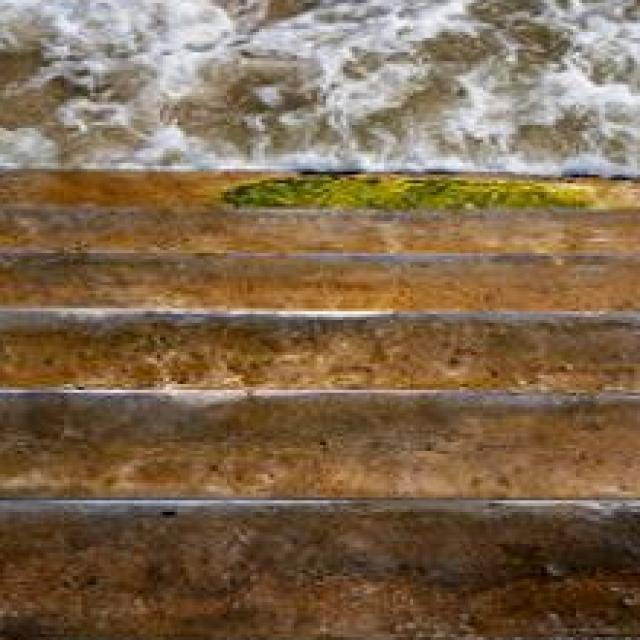upstair: (1, 152, 640, 522)
